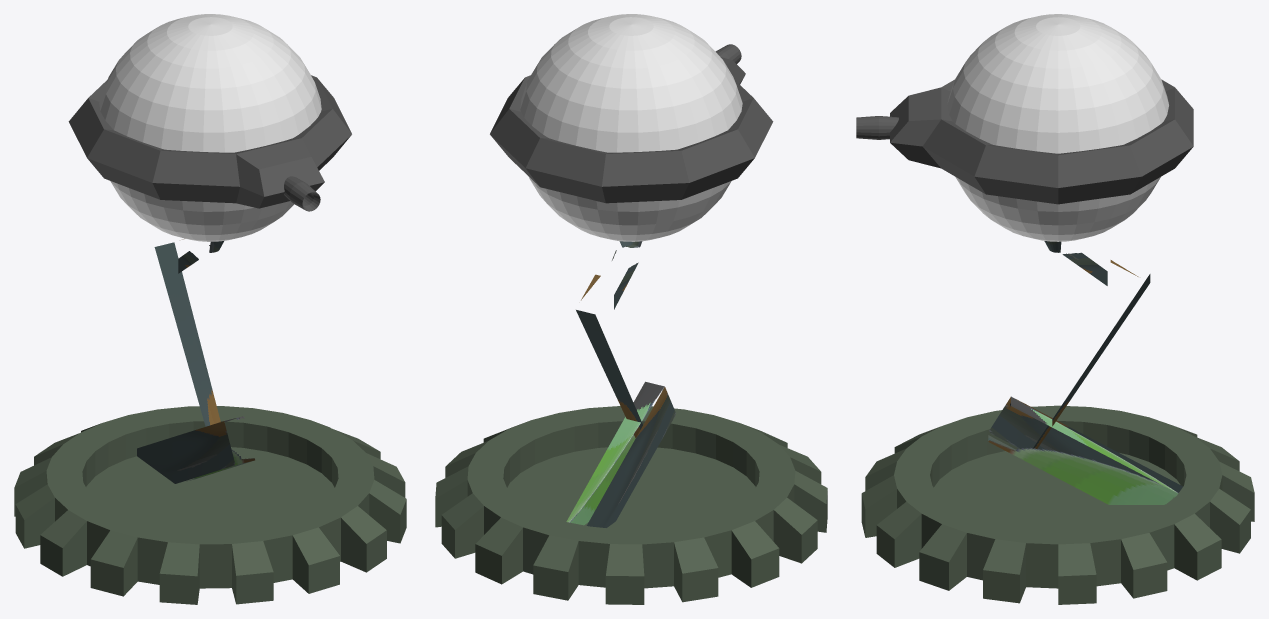
The model's file is PoisonTower.fbx.
3 views of the same model, side by side, from view 1: azimuth 30°, elevation 25°; view 2: azimuth 150°, elevation 25°; view 3: azimuth 270°, elevation 25° (orthographic).
Visible parts, largest first — view 1: Cylinder, Glass, Torus, Cube, Cube.001; view 2: Cylinder, Glass, Torus, Cube, Cube.001; view 3: Cylinder, Glass, Torus, Cube, Cube.001, Cube.002.
Part boxes in pixels (left/top/right/bottom): Cylinder: left=14, top=406, right=406, bottom=604; Glass: left=99, top=14, right=321, bottom=241; Torus: left=68, top=75, right=351, bottom=211; Cube: left=137, top=416, right=254, bottom=483; Cube.001: left=154, top=238, right=220, bottom=426; Cylinder: left=435, top=406, right=827, bottom=604; Glass: left=520, top=14, right=742, bottom=241; Torus: left=490, top=44, right=773, bottom=203; Cube: left=566, top=381, right=675, bottom=527; Cube.001: left=576, top=274, right=642, bottom=437; Cylinder: left=861, top=405, right=1254, bottom=604; Glass: left=947, top=14, right=1168, bottom=241; Torus: left=856, top=79, right=1193, bottom=204; Cube: left=988, top=396, right=1183, bottom=504; Cube.001: left=1033, top=260, right=1150, bottom=448; Cube.002: left=1062, top=252, right=1107, bottom=285.
Size of the model in its own units: 345 by 481 by 349.
